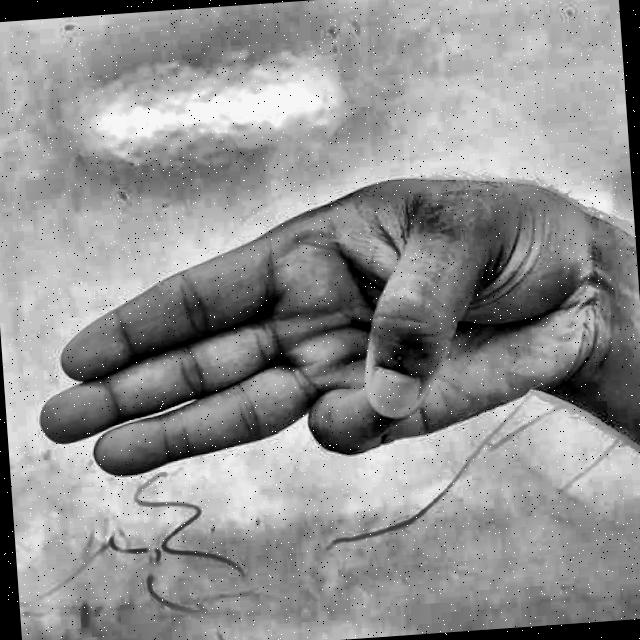Ma: (12, 147, 636, 548)
